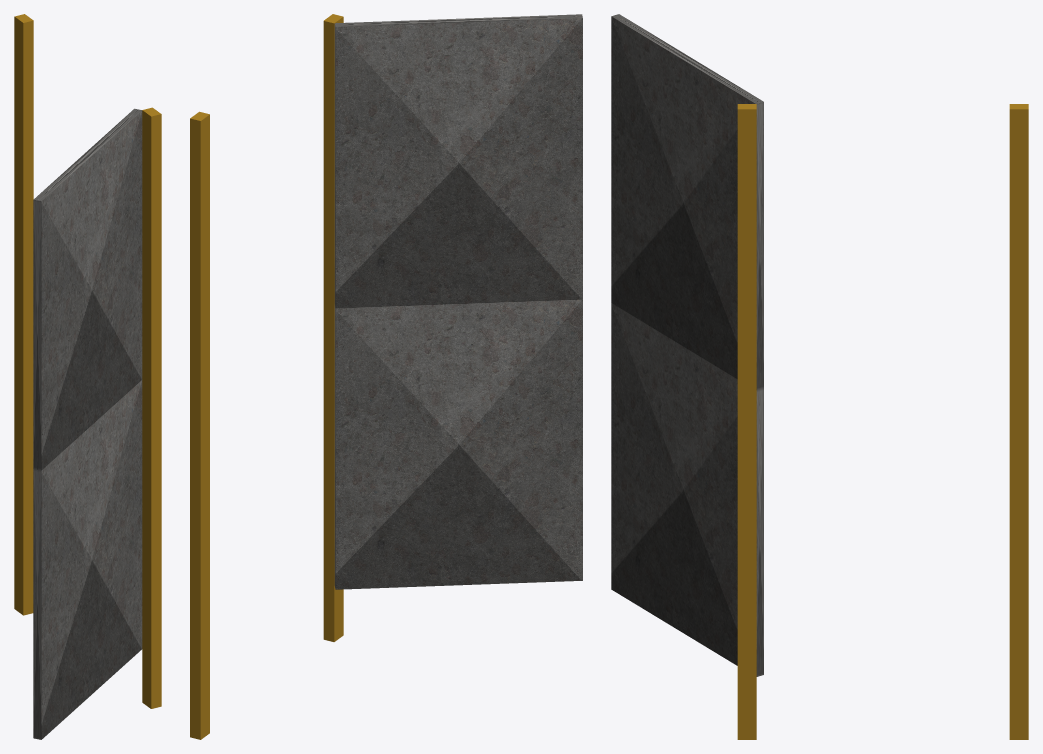
File: screen_door.FBX
3 renders of one model, left to right at view 1: azimuth 30°, elevation 25°; view 2: azimuth 150°, elevation 25°; view 3: azimuth 270°, elevation 25°, orthographic. The views are drawn at different scales.
Visible parts, largest first — view 1: screen_door; view 2: screen_door; view 3: screen_door.
Boxes of the visible parts, x1,y1,x2,y2 form: screen_door: (14, 14, 161, 739); screen_door: (190, 14, 582, 739); screen_door: (611, 14, 1028, 739).
Bounding box in the file's own units: 0.7138 × 2.2 × 1.32.
2 materials, 2 textured.
